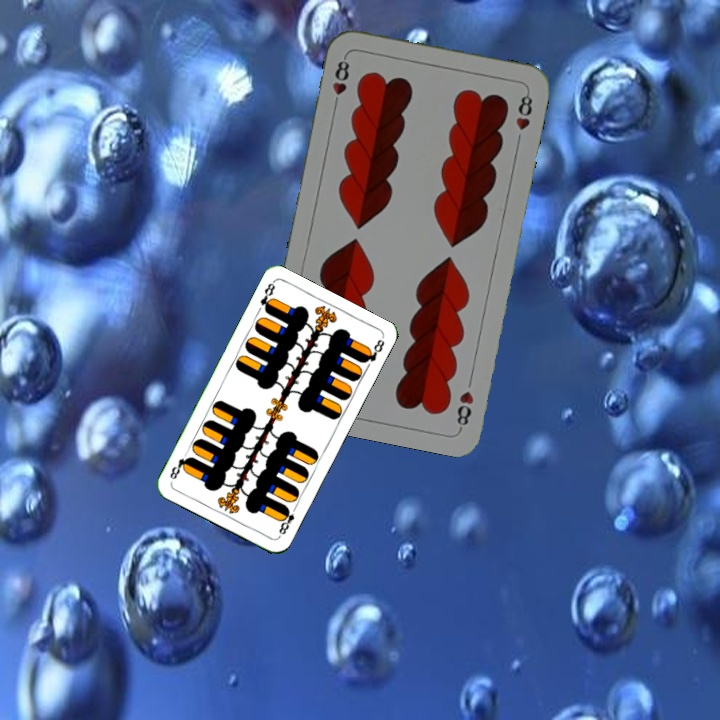E8: (274, 502, 299, 540), (256, 278, 278, 315)
H8: (328, 52, 352, 111), (452, 387, 477, 432)
